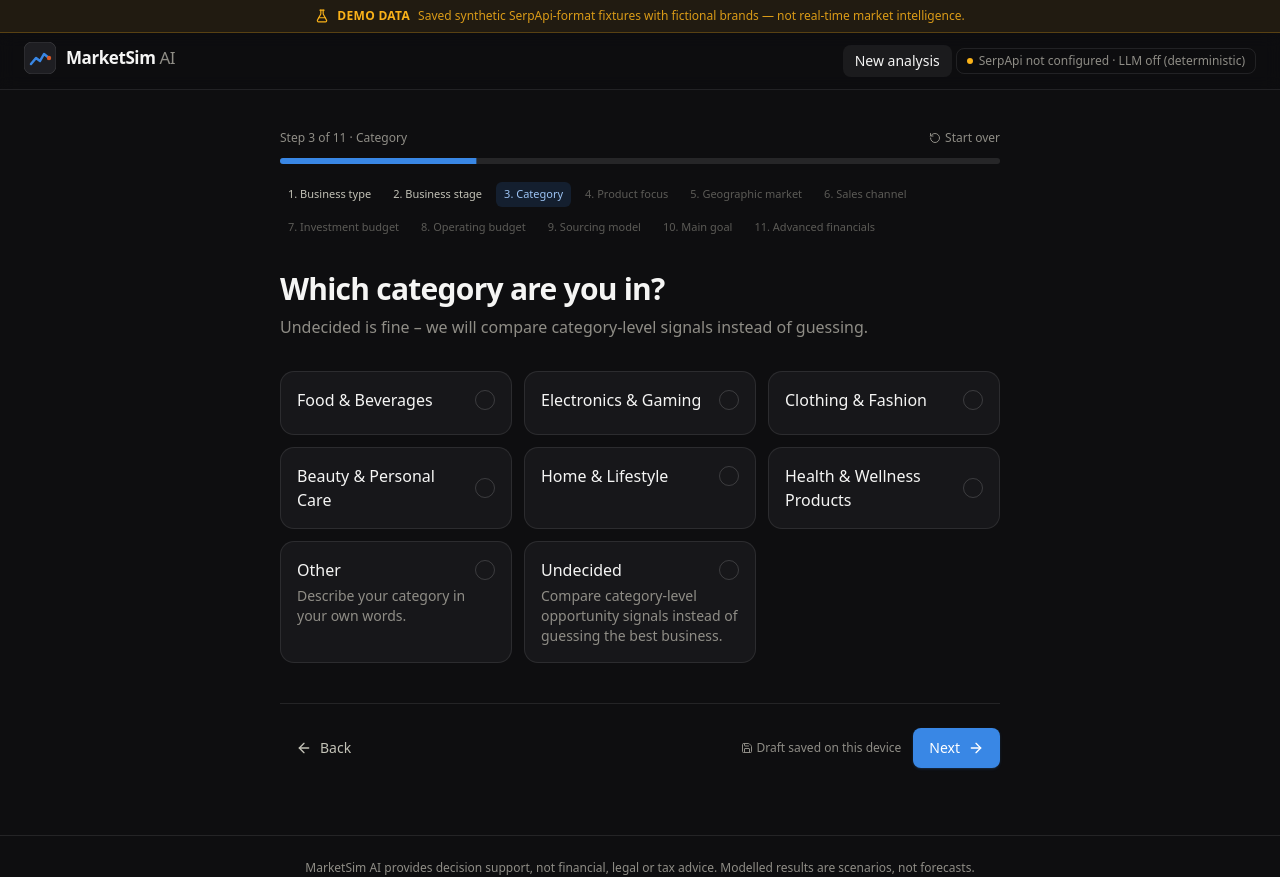
Test case: onboarding wizard › shows a custom field for Other and a comparison picker for Undecided
Click the radio button labelled "Other Describe your category in your own words.": (396,602) [280, 541, 512, 663]
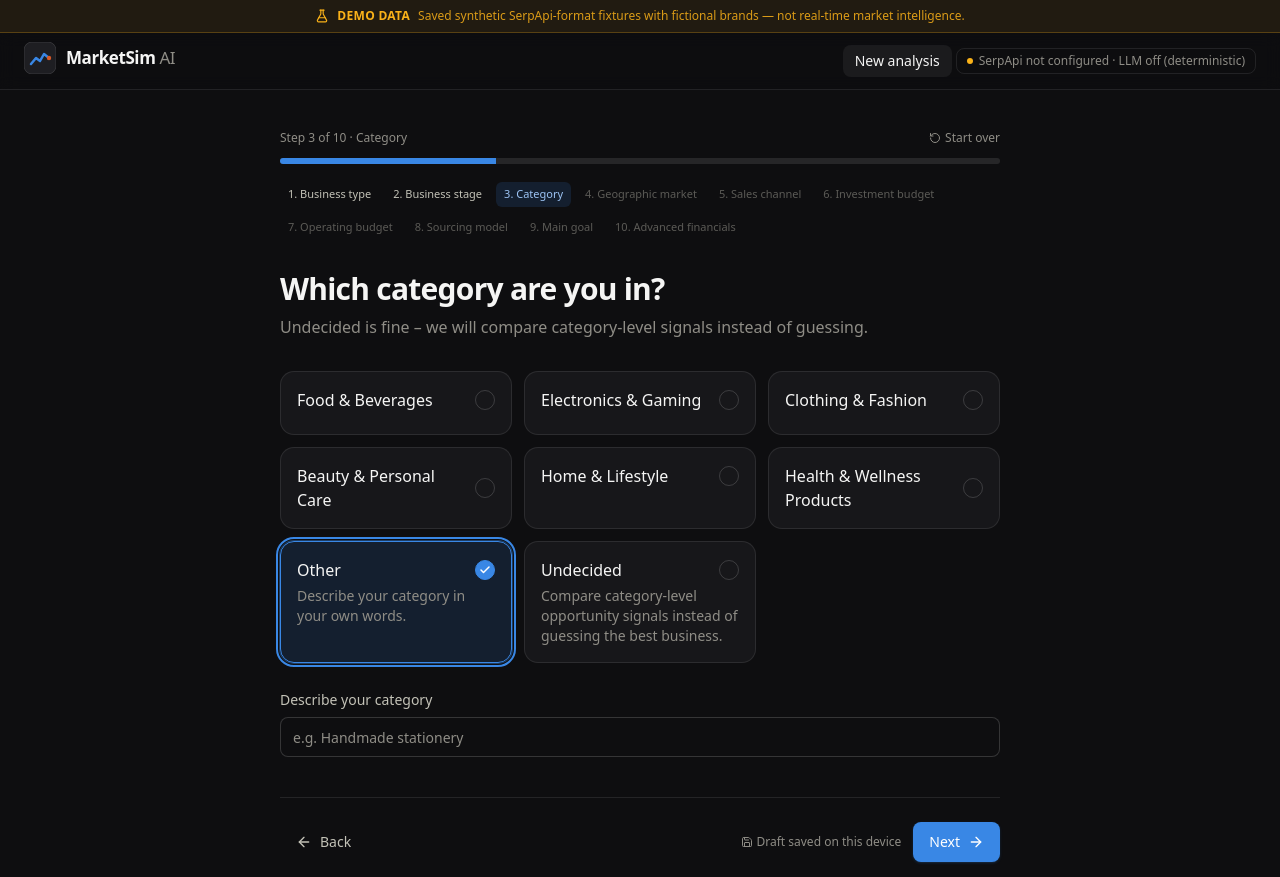
Now the field labelled "Describe your category" is shown, box [280, 717, 1000, 757]
Click the radio button labelled "Undecided": (640,602) [524, 541, 756, 663]
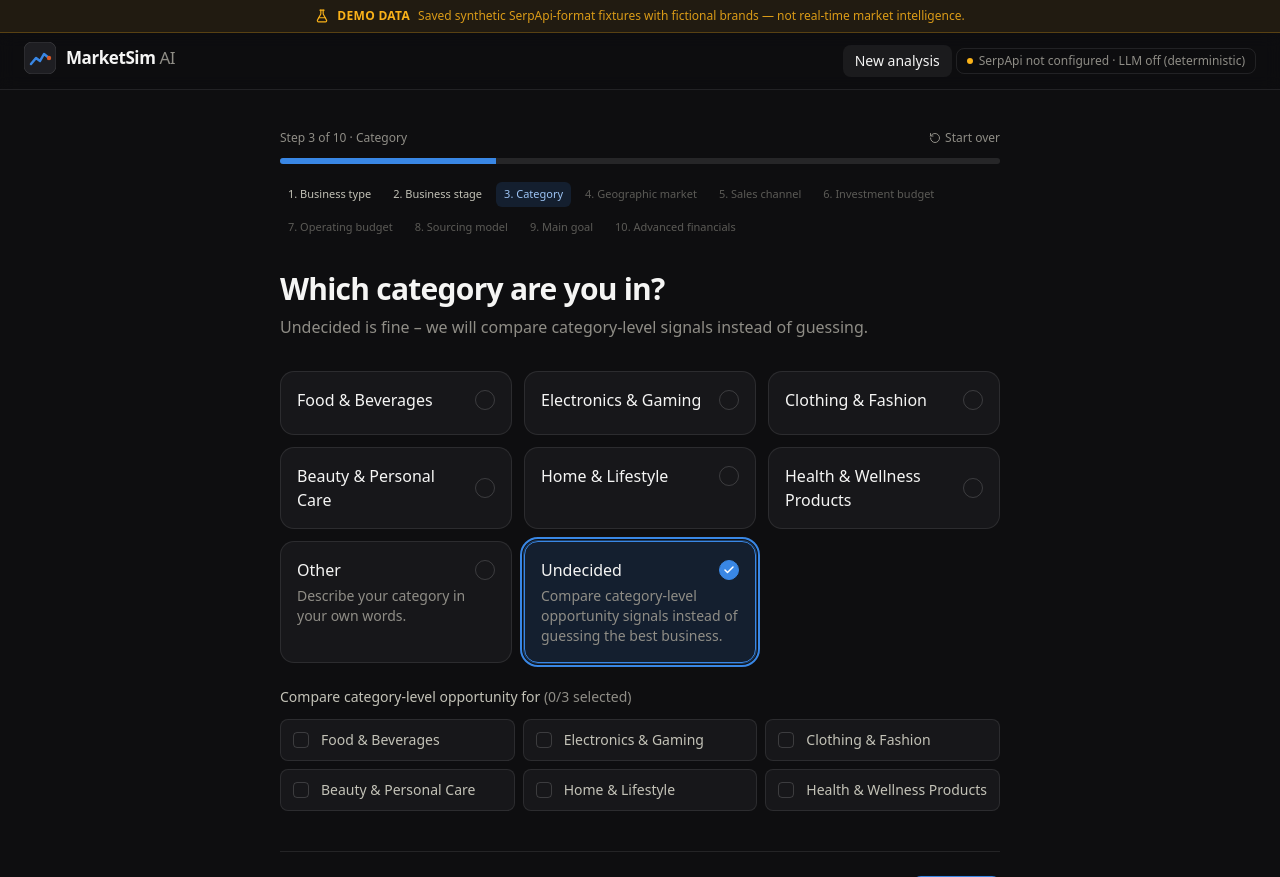
Now the text "Compare category-level opportunity for (0/3 selected)" is shown, box [280, 687, 632, 707]
